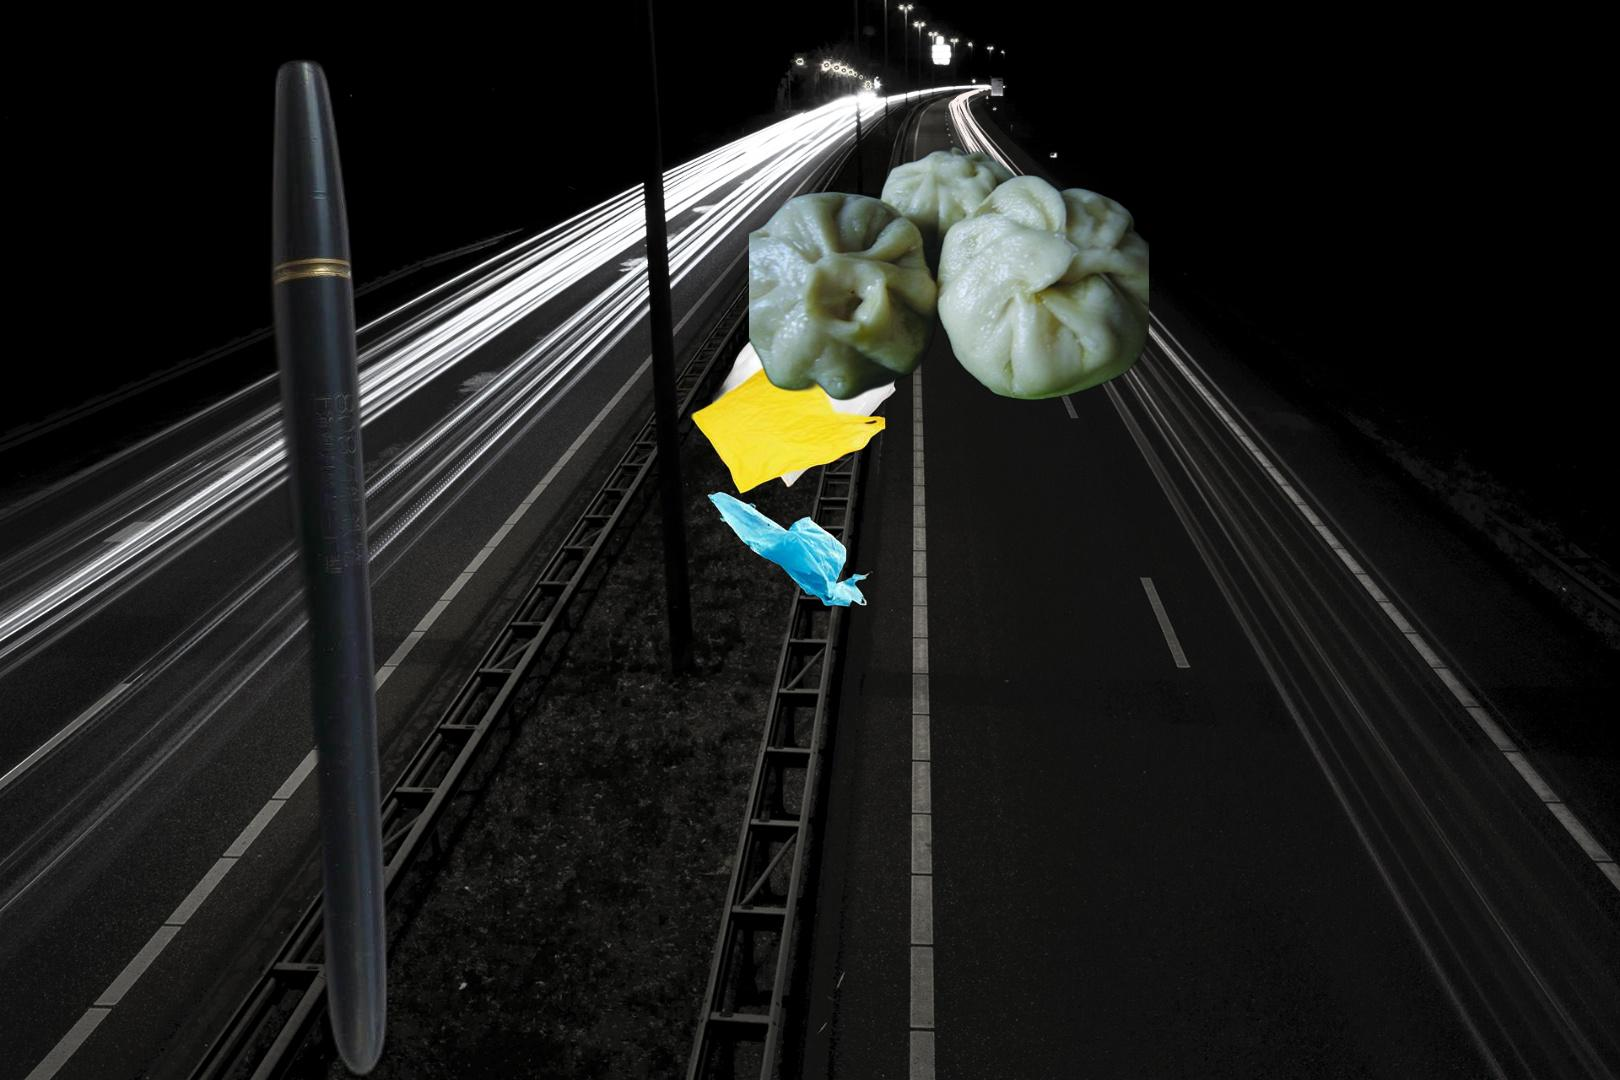biological: (749, 143, 1149, 403)
penholder: (263, 49, 394, 1080), (1497, 945, 1620, 1080)
plastic-bag: (662, 221, 918, 497), (704, 489, 876, 612)
